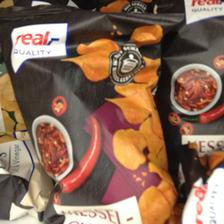Chips: (0, 9, 180, 224)
